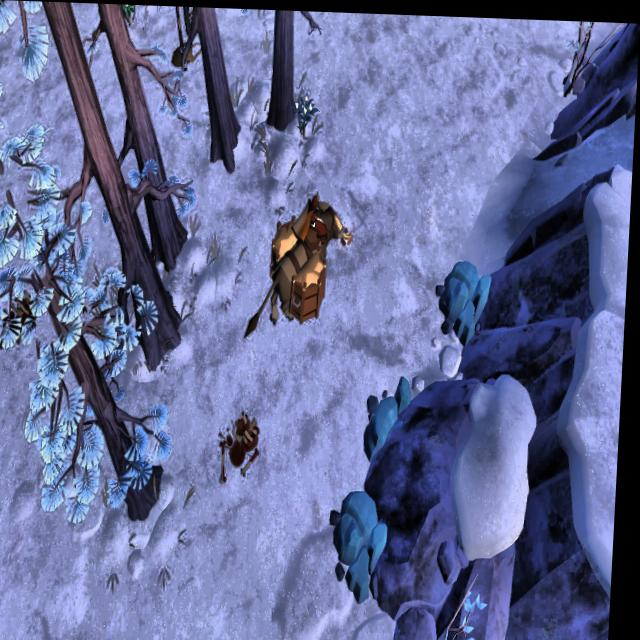fiber_t4: (293, 85, 320, 136)
rock_t4: (333, 490, 401, 607), (434, 249, 499, 343), (364, 370, 423, 458)
